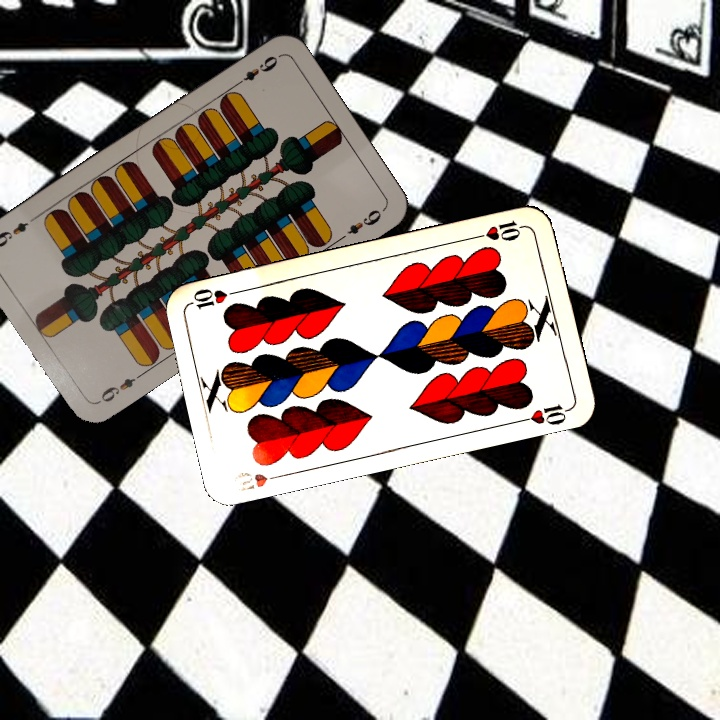E9: (230, 51, 282, 90), (93, 369, 146, 407)
H10: (471, 216, 529, 244), (233, 467, 288, 494)
